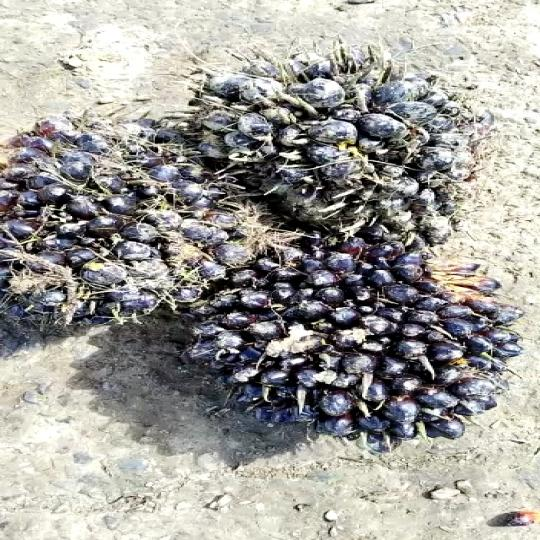mentah: (180, 225, 528, 448), (173, 50, 475, 250), (0, 108, 234, 336)
